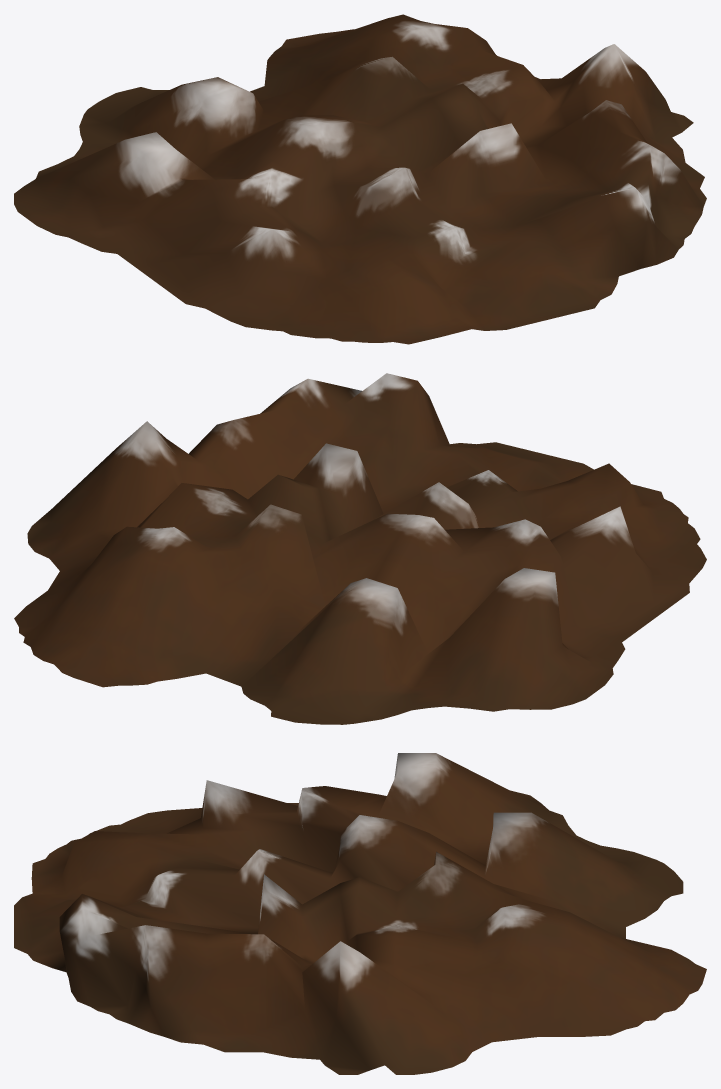
Rendered from mountains.fbx.
3 renders of one model, top to bottom at view 1: azimuth 30°, elevation 25°; view 2: azimuth 150°, elevation 25°; view 3: azimuth 270°, elevation 25°, orthographic.
Parts seen in each view (by area): view 1: pPlane1; view 2: pPlane1; view 3: pPlane1.
Part boxes in pixels (<box>): pPlane1: <box>14,14,706,344</box>; pPlane1: <box>14,373,706,724</box>; pPlane1: <box>14,753,706,1074</box>.
Bounding box in the file's own units: 78.24 × 12.89 × 79.83.
Materials: 1 (1 with a texture image).
